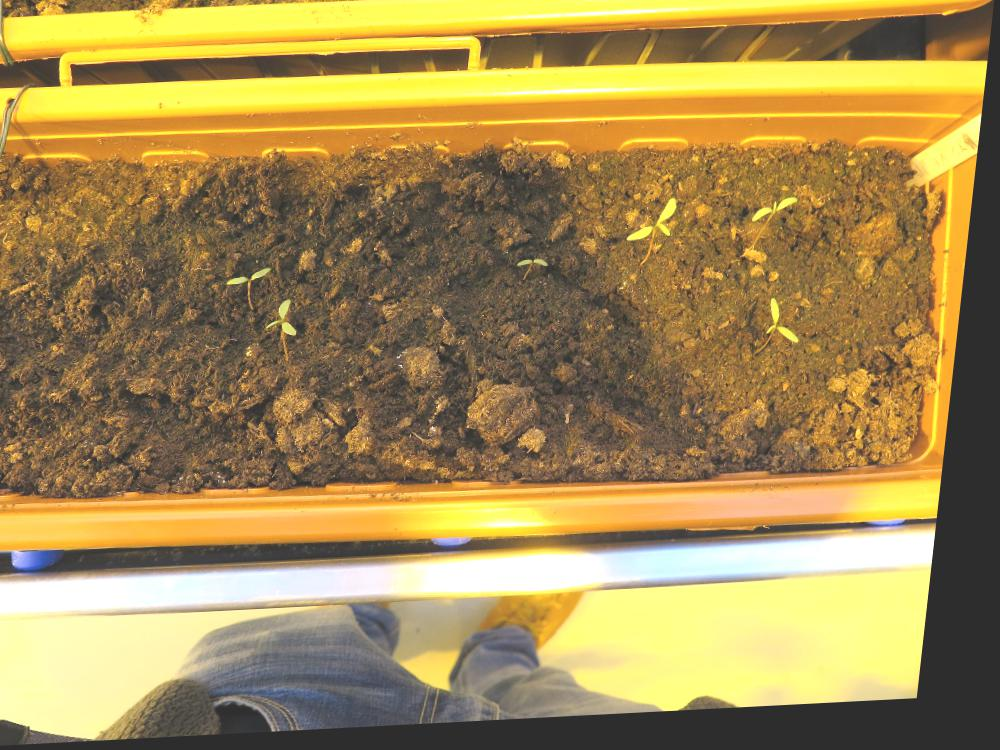weed: (631, 202, 683, 248), (770, 303, 812, 353), (271, 299, 309, 342), (756, 203, 803, 230), (230, 268, 279, 290), (521, 261, 556, 274)
